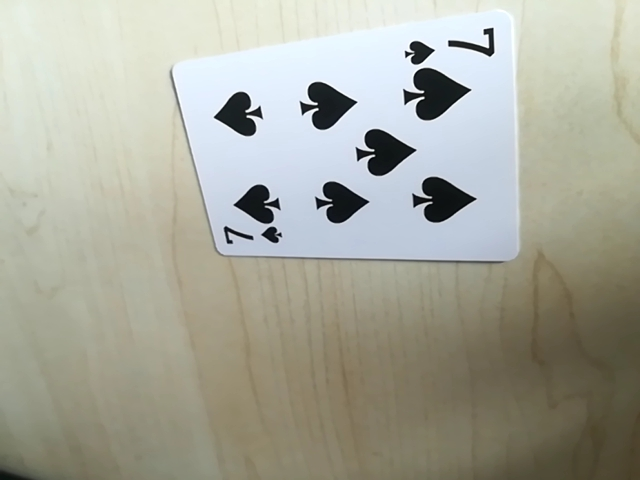ht 7: (399, 22, 504, 64), (214, 221, 287, 254)
